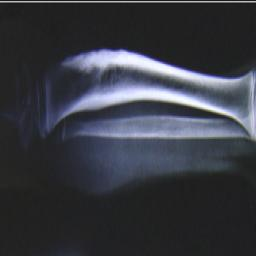cancer: (62, 46, 178, 118)
